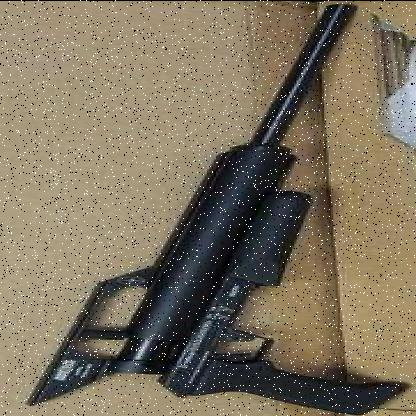rifle: (25, 141, 414, 409)
